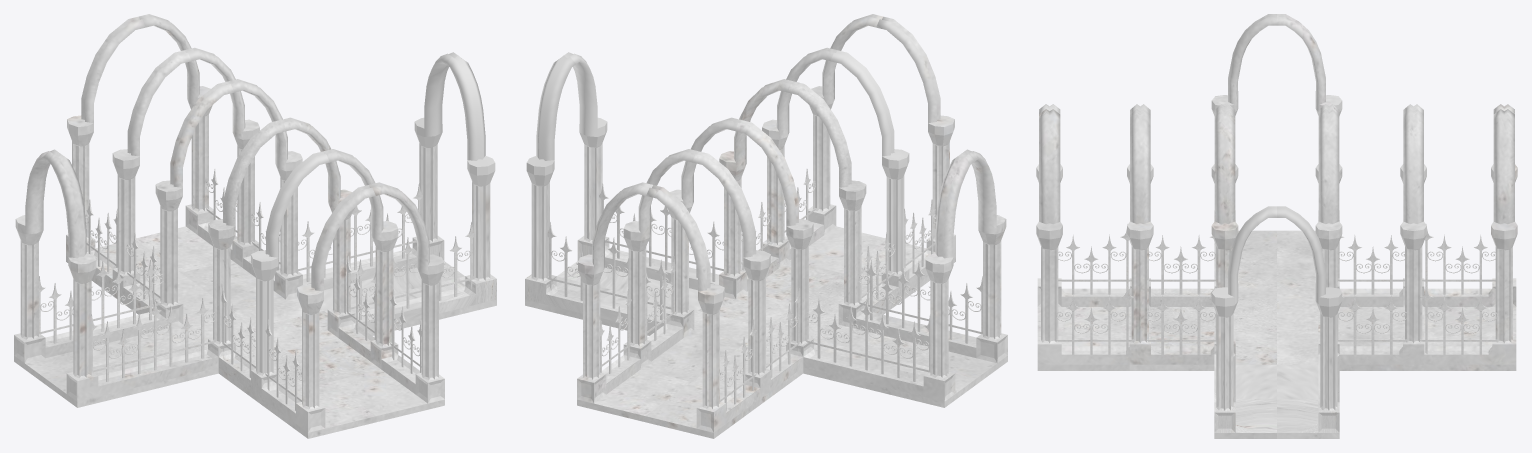
Rendered from 4waykäytävä 1.fbx.
3 views of the same model, side by side, from view 1: azimuth 30°, elevation 25°; view 2: azimuth 150°, elevation 25°; view 3: azimuth 270°, elevation 25° (orthographic).
Parts seen in each view (by area): view 1: rakennelma, aitaus; view 2: rakennelma, aitaus; view 3: rakennelma, aitaus.
Part boxes in pixels (<box>): rakennelma: <box>14,14,496,438</box>; aitaus: <box>39,169,474,410</box>; rakennelma: <box>525,14,1007,438</box>; aitaus: <box>547,169,982,410</box>; rakennelma: <box>1036,14,1517,438</box>; aitaus: <box>1056,224,1497,354</box>.
Size of the model in its own units: 7383 by 3871 by 7378.
